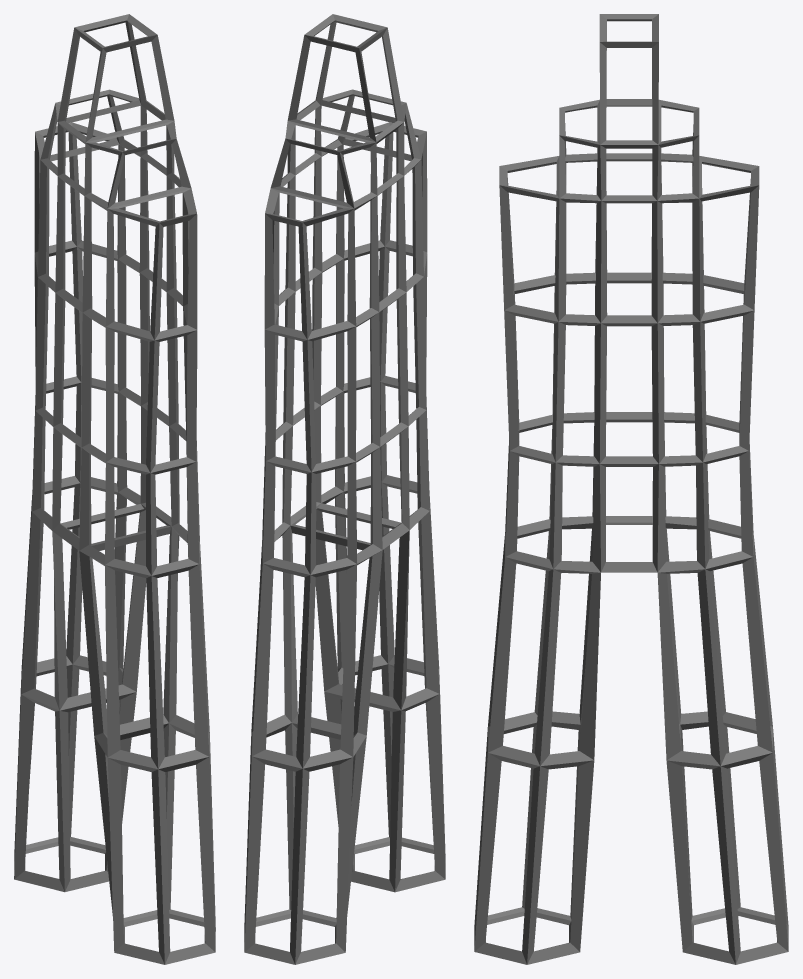
Rendered from LPCP_Cage14.fbx.
3 views of the same model, side by side, from view 1: azimuth 30°, elevation 25°; view 2: azimuth 150°, elevation 25°; view 3: azimuth 270°, elevation 25° (orthographic). The views are drawn at different scales.
Parts seen in each view (by area): view 1: LPCP_Cage14; view 2: LPCP_Cage14; view 3: LPCP_Cage14.
Part boxes in pixels (x1,y1,x2,y2): LPCP_Cage14: (14,14,215,964); LPCP_Cage14: (244,14,445,964); LPCP_Cage14: (474,14,788,964).
Size of the model in its own units: 0.5729 by 4.68 by 1.46.
